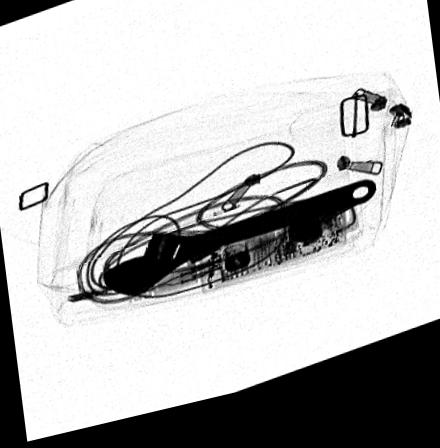Wrench: (95, 196, 377, 303)
